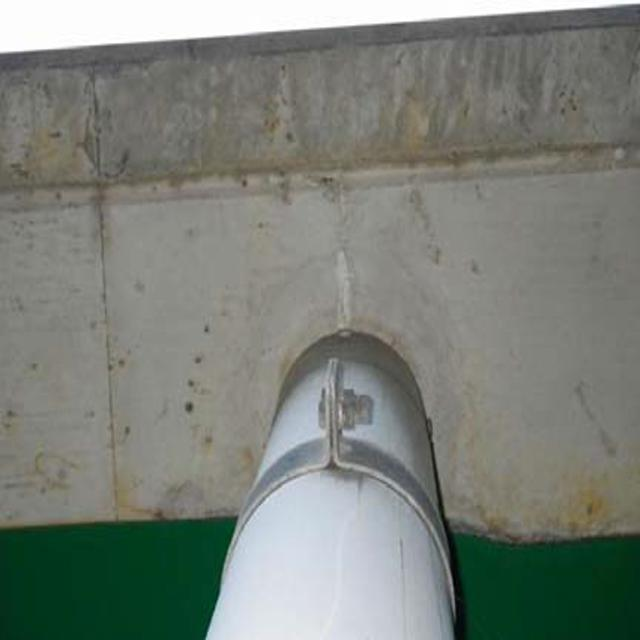freelime: (324, 254, 367, 337)
